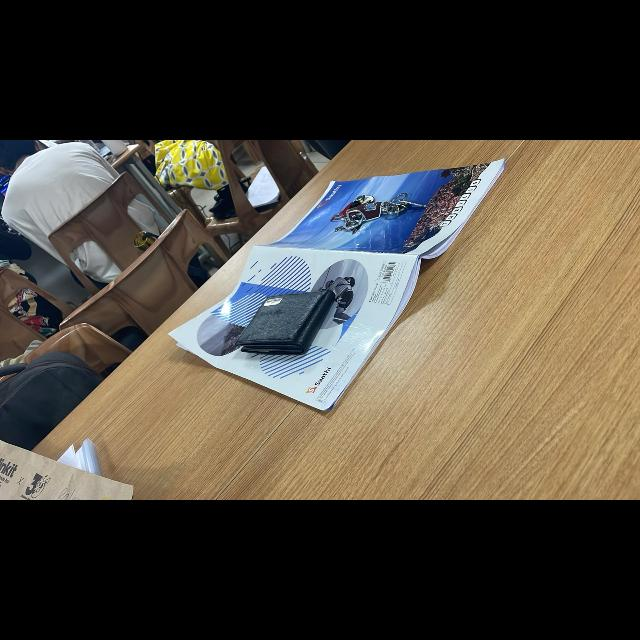keys: (334, 180, 441, 248)
wallet: (238, 264, 332, 364)
